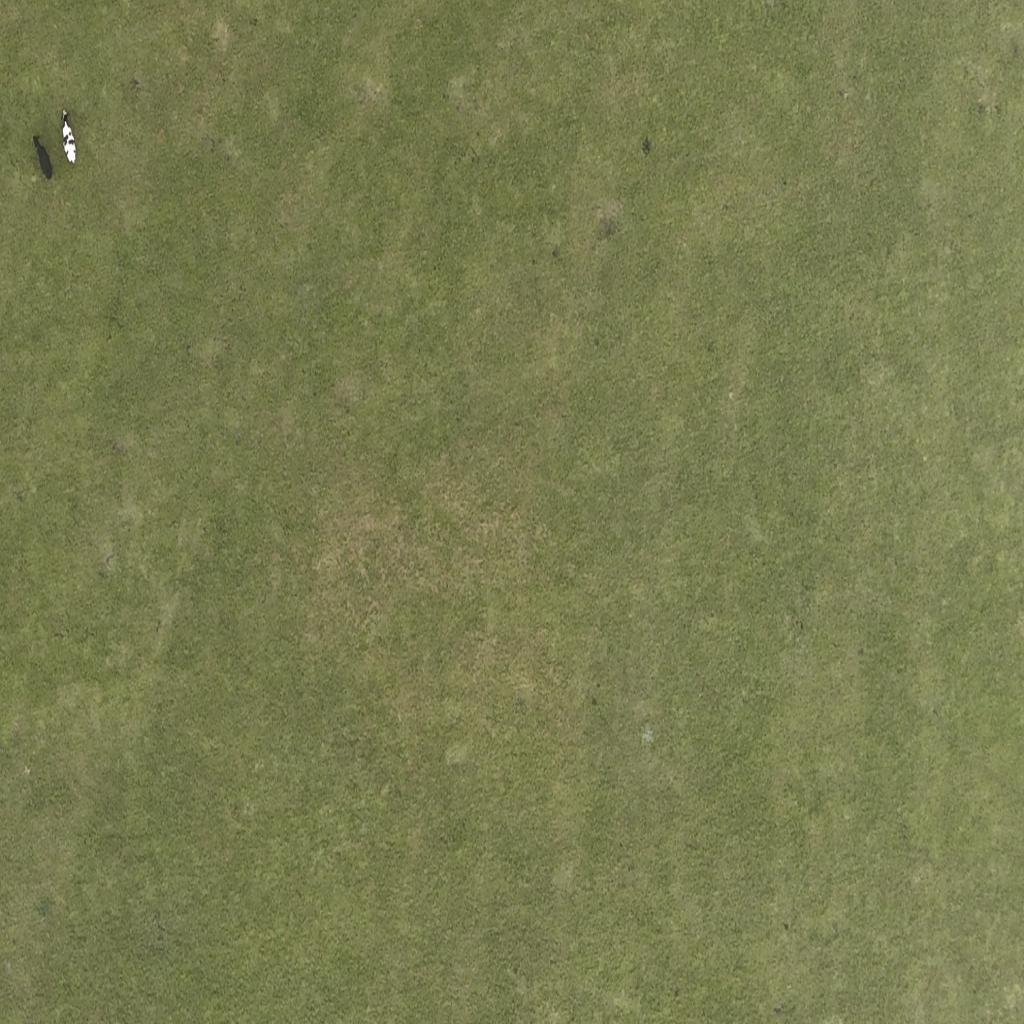cow: (30, 128, 54, 184), (60, 110, 77, 167)
